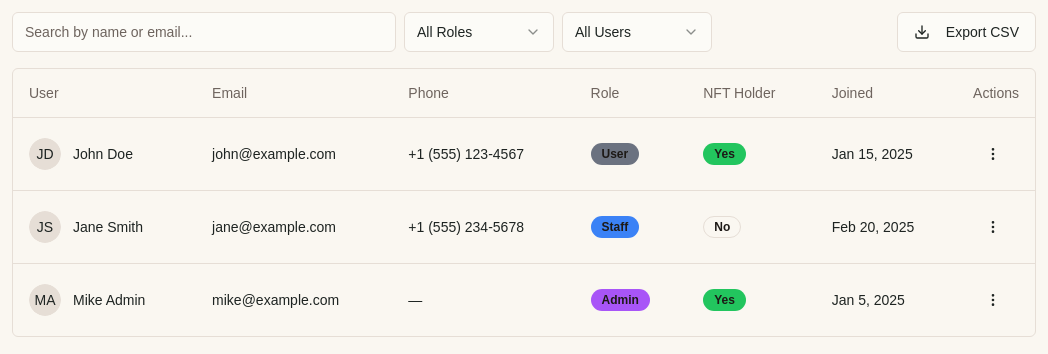
Test case: UserTable › shows empty state when no users match filters
Type "nonexistent" into the field with placeholder "Search by name or email...".
click(204, 32); type("nonexistent")  # box [12,12,396,52]
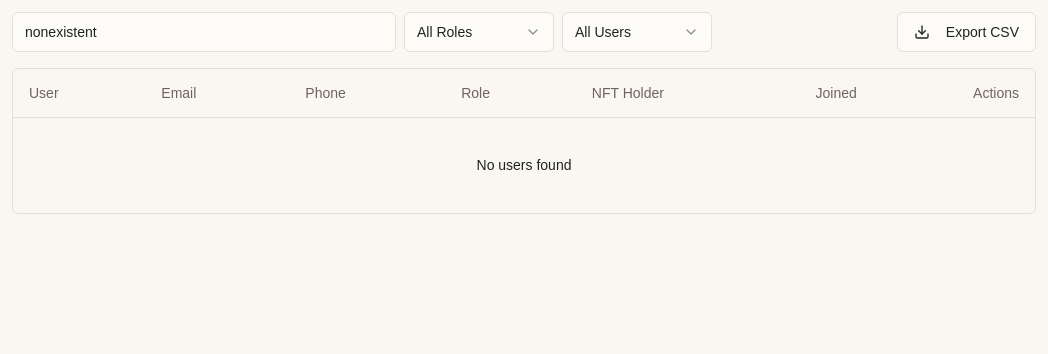
Check: the text "No users found" is shown, box [13,117,1035,213]
